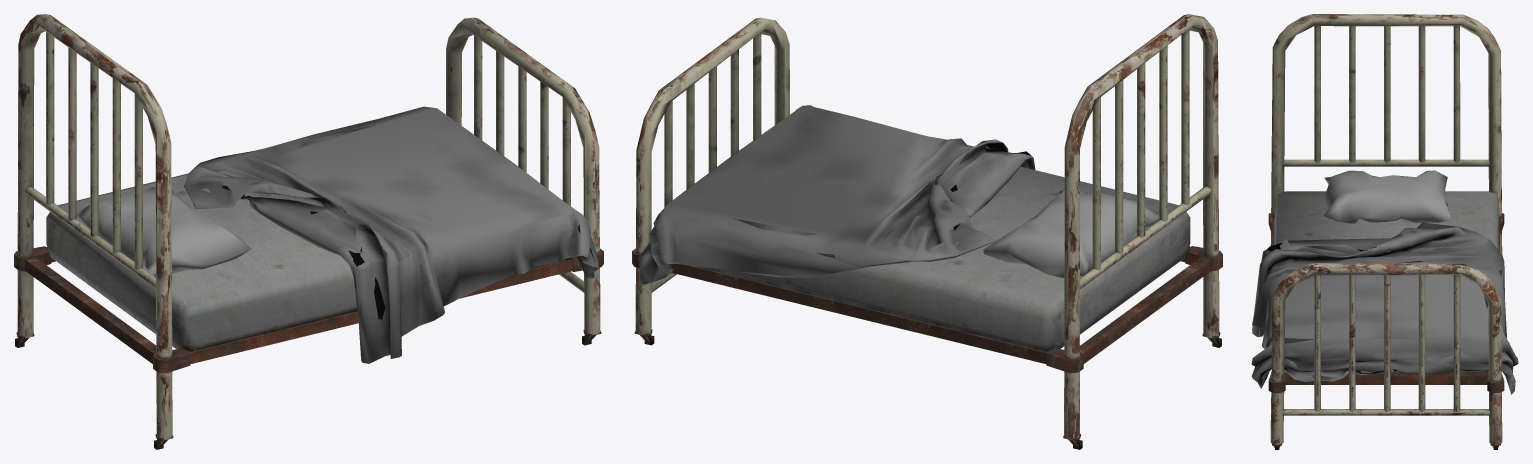
File: bed_iron.glb
3 renders of one model, left to right at view 1: azimuth 30°, elevation 25°; view 2: azimuth 150°, elevation 25°; view 3: azimuth 270°, elevation 25°, orthographic. The views are drawn at different scales.
Visible parts, largest first — view 1: low_Pillow_1_bed_0, low_Pillow_1_lagen_0, low_Pillow_1_pillow_0; view 2: low_Pillow_1_bed_0, low_Pillow_1_lagen_0, low_Pillow_1_pillow_0; view 3: low_Pillow_1_bed_0, low_Pillow_1_lagen_0, low_Pillow_1_pillow_0.
Part boxes in pixels (x1,y1,x2,y2): low_Pillow_1_bed_0: [14, 14, 603, 449]; low_Pillow_1_lagen_0: [183, 106, 598, 363]; low_Pillow_1_pillow_0: [76, 187, 251, 276]; low_Pillow_1_bed_0: [632, 14, 1222, 449]; low_Pillow_1_lagen_0: [638, 105, 1035, 284]; low_Pillow_1_pillow_0: [983, 189, 1159, 277]; low_Pillow_1_bed_0: [1268, 14, 1504, 449]; low_Pillow_1_lagen_0: [1251, 222, 1518, 394]; low_Pillow_1_pillow_0: [1324, 170, 1450, 223].
Bounding box in the file's own units: 1.99 × 1.48 × 1.31.
3 materials, 2 textured.
